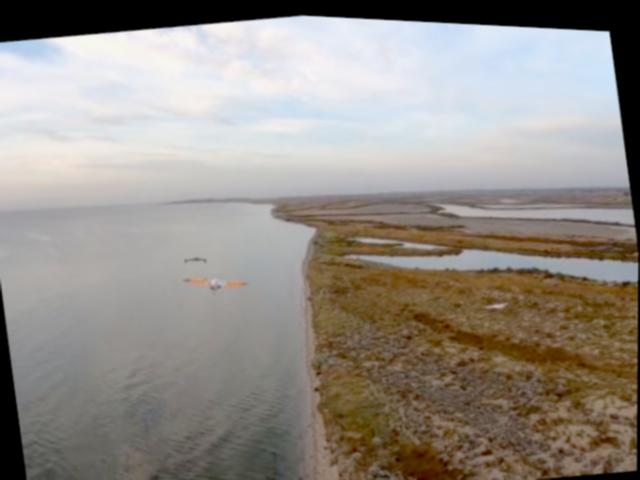uav: (181, 262, 248, 295)
